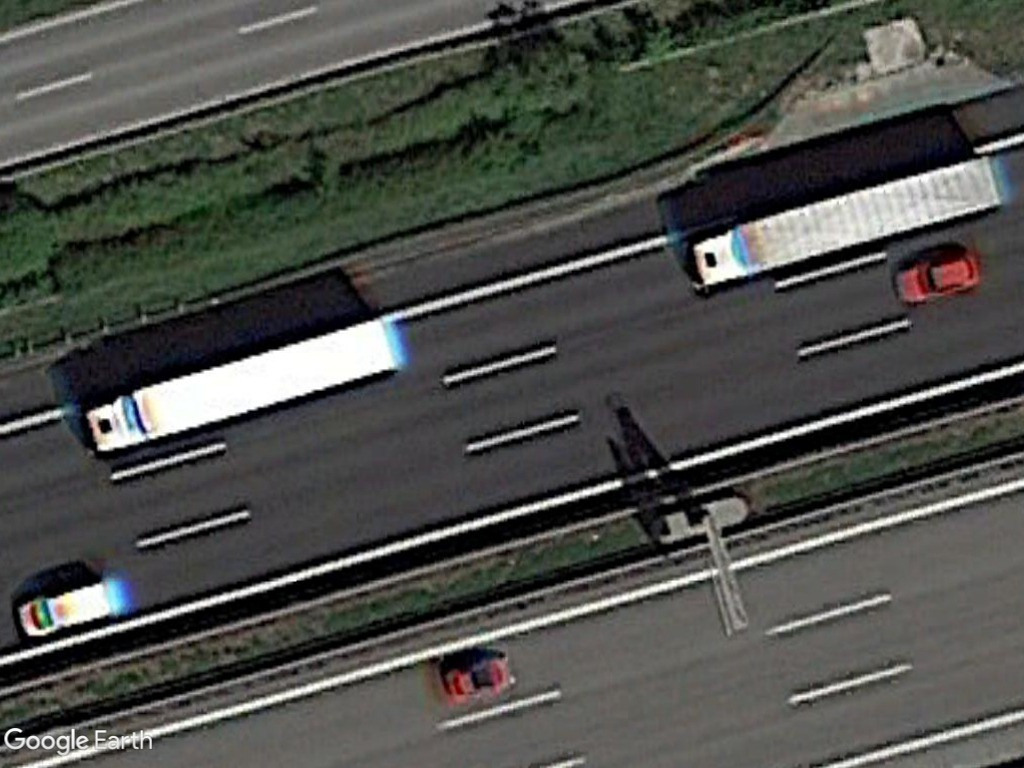longvehicle: (679, 154, 1012, 302), (81, 313, 414, 460)
van: (12, 577, 123, 643)
